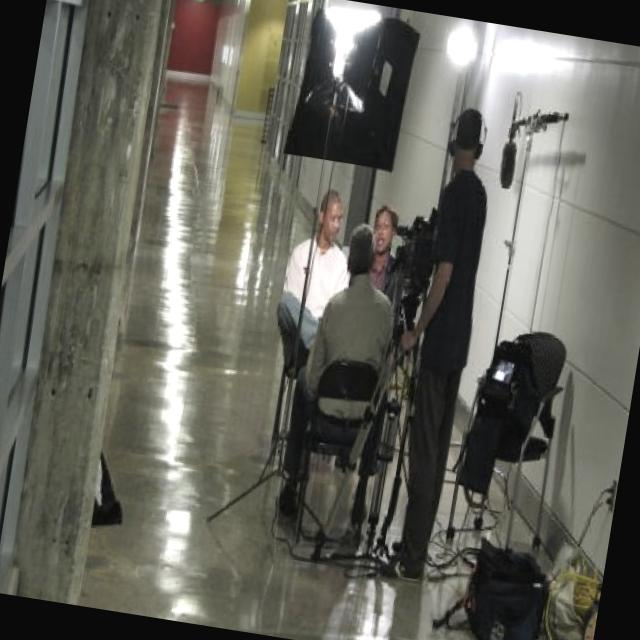Person: (362, 100, 510, 586), (274, 215, 412, 526), (252, 182, 364, 484), (360, 201, 414, 324)
